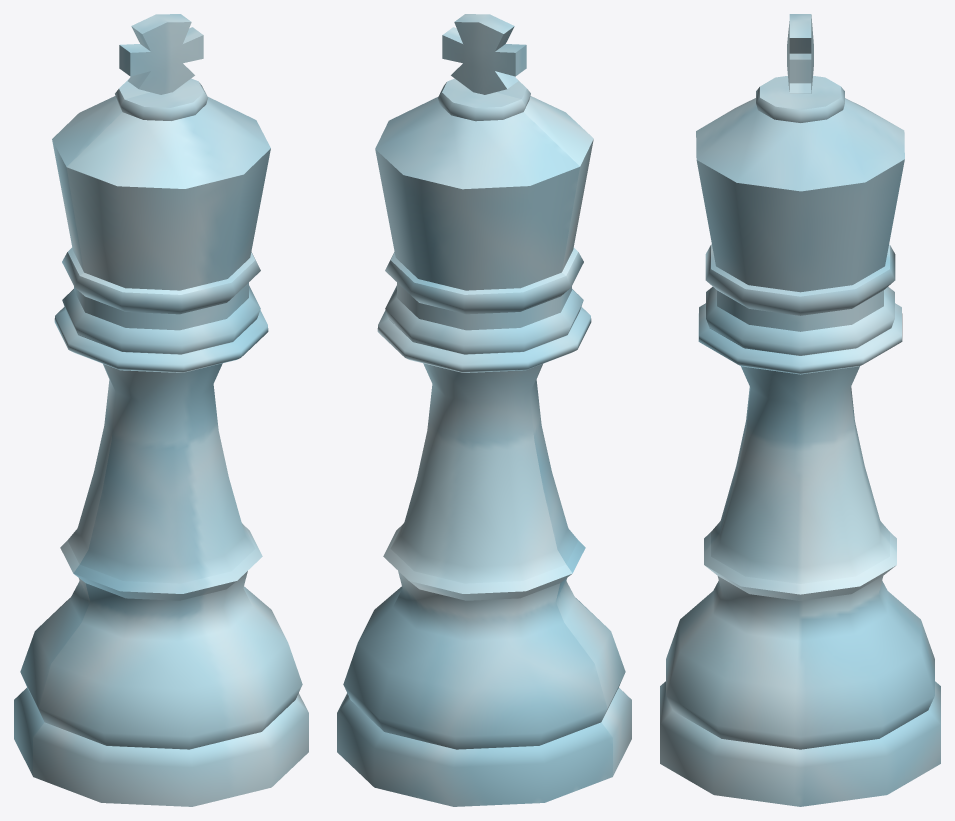
Rendered from item-5-2.glb.
3 views of the same model, side by side, from view 1: azimuth 30°, elevation 25°; view 2: azimuth 150°, elevation 25°; view 3: azimuth 270°, elevation 25° (orthographic).
Parts seen in each view (by area): view 1: BlackKing; view 2: BlackKing; view 3: BlackKing.
Boxes of the visible parts, x1=… form: BlackKing: x1=14, y1=14, x2=308, y2=806; BlackKing: x1=337, y1=14, x2=631, y2=806; BlackKing: x1=660, y1=14, x2=940, y2=806.
Bounding box in the file's own units: 0.0886 × 0.2399 × 0.0843.
1 material, 1 textured.
